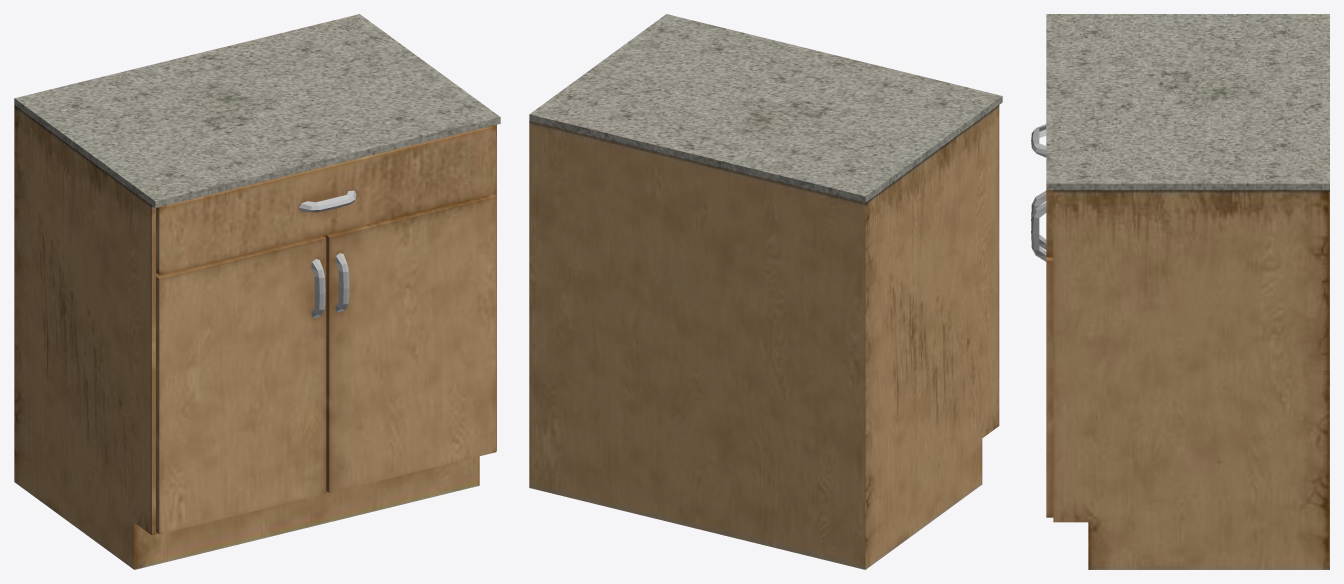
The model's file is armario_baixo_b.glb.
The picture shows the model from 3 angles, left to right: view 1: azimuth 30°, elevation 25°; view 2: azimuth 150°, elevation 25°; view 3: azimuth 270°, elevation 25°; orthographic projection. The views are drawn at different scales.
Visible parts, largest first — view 1: armario_baixo_b; view 2: armario_baixo_b; view 3: armario_baixo_b.
Boxes of the visible parts, x1=… form: armario_baixo_b: x1=14, y1=14, x2=500, y2=569; armario_baixo_b: x1=529, y1=14, x2=1002, y2=569; armario_baixo_b: x1=1031, y1=14, x2=1329, y2=569.
Size of the model in its own units: 0.8 by 0.85 by 0.5956.
1 material, 1 textured.
